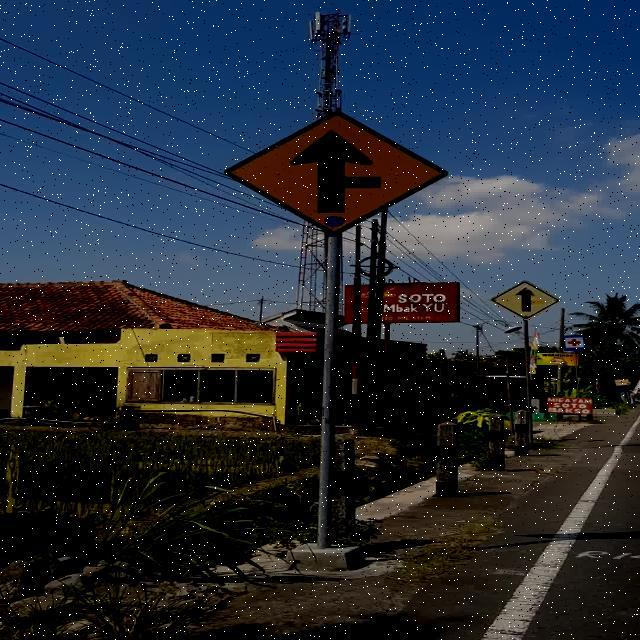Persimpangan 3 Prioritas Kanan: (225, 112, 448, 236)
